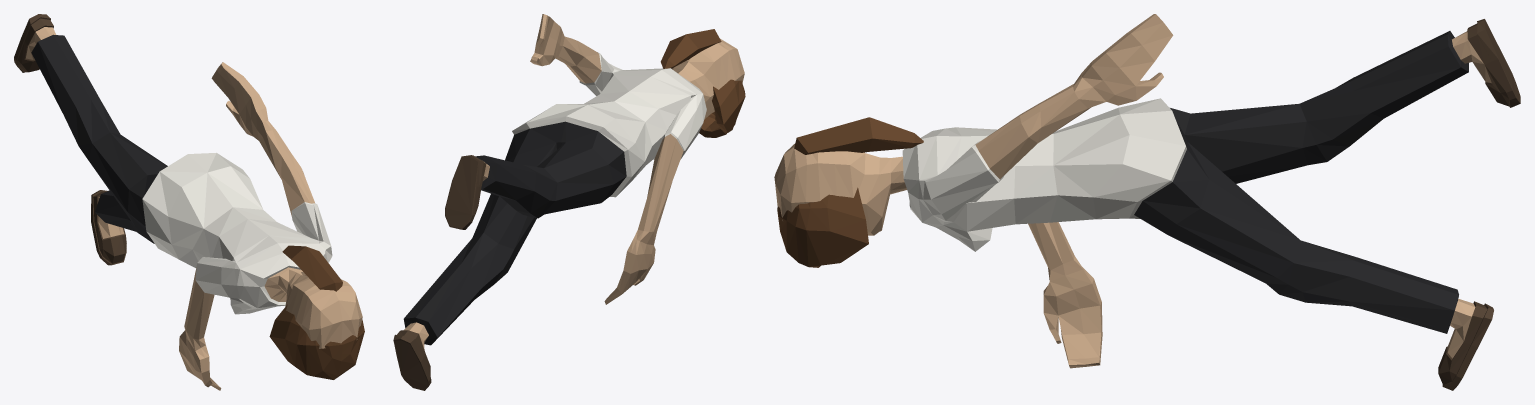
File: woman-running.obj
The picture shows the model from 3 angles, left to right: view 1: azimuth 30°, elevation 25°; view 2: azimuth 150°, elevation 25°; view 3: azimuth 270°, elevation 25°; orthographic projection. The views are drawn at different scales.
Visible parts, largest first — view 1: woman-running; view 2: woman-running; view 3: woman-running.
Boxes of the visible parts, box(x1,y1,x2,y2) form: woman-running: box(14, 14, 364, 390); woman-running: box(393, 14, 745, 390); woman-running: box(774, 14, 1520, 390).
Size of the model in its own units: 14.74 by 36.33 by 65.15.
